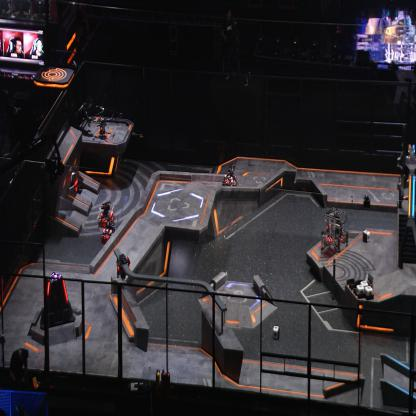car: (321, 207, 348, 256), (62, 169, 81, 195), (97, 199, 114, 225), (100, 216, 117, 242), (222, 161, 238, 188)
